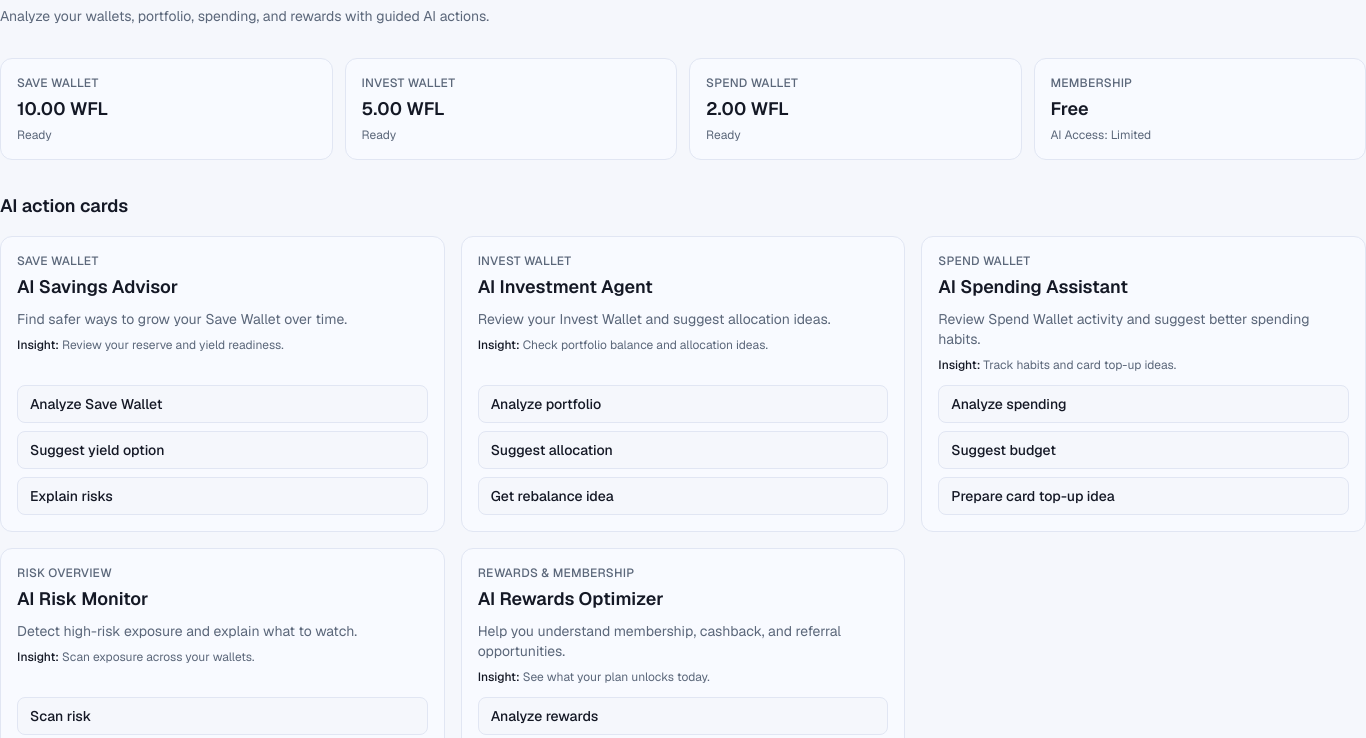
Scenario: AiActionCenterPage › creates recommendation when action is clicked
Click the button "Analyze Save Wallet" at point(96, 404), box [17,385,428,423]
(page scrolled)
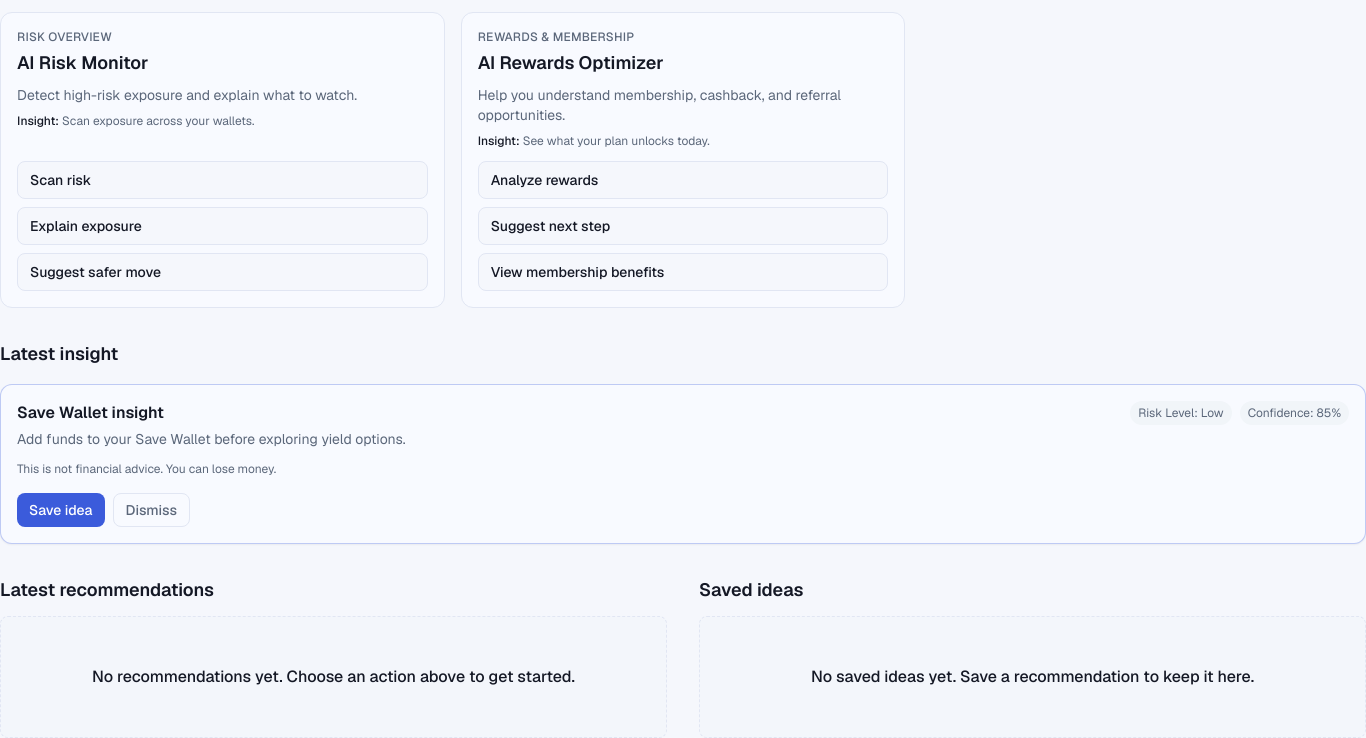
Result: the text "Add funds to your Save Wallet before exploring yield options." is shown at [17,429,406,449]
Result: the text "This is not financial advice. You can lose money." is shown at [17,461,276,477]
